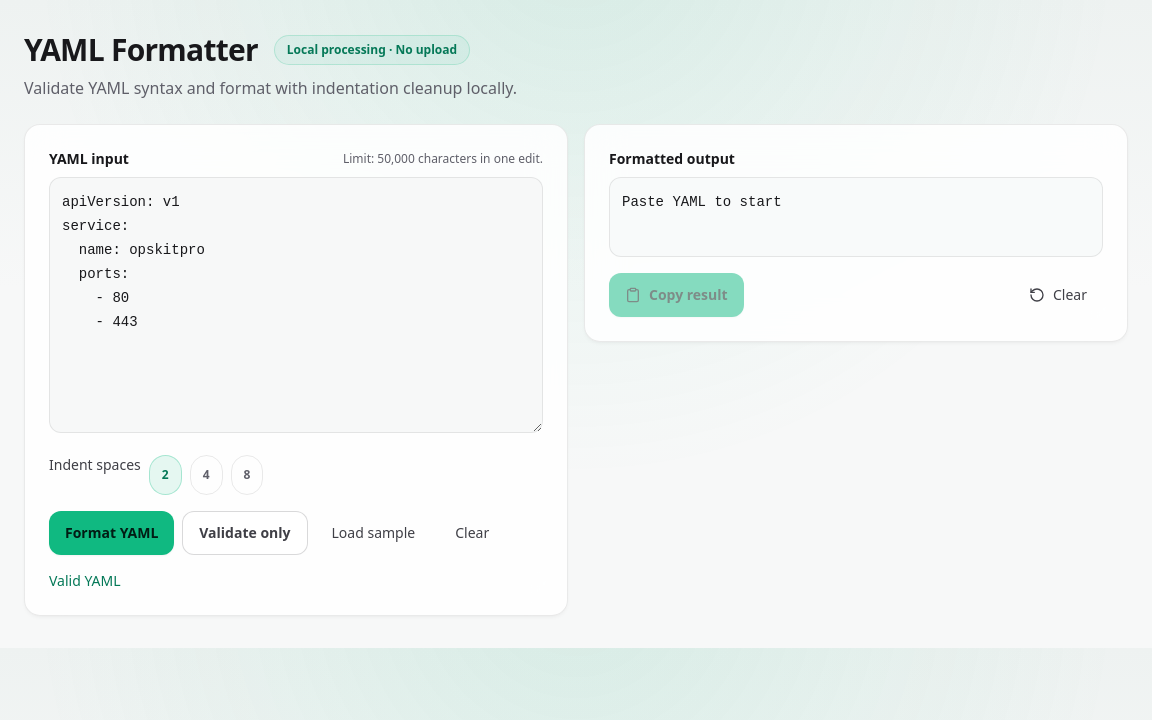
Test case: YamlClient › supports manual validation feedback
Step 1. Replace the text in the text box with placeholder "Paste your YAML here…" with "a: [1" → (296, 305), box [49, 177, 543, 433]
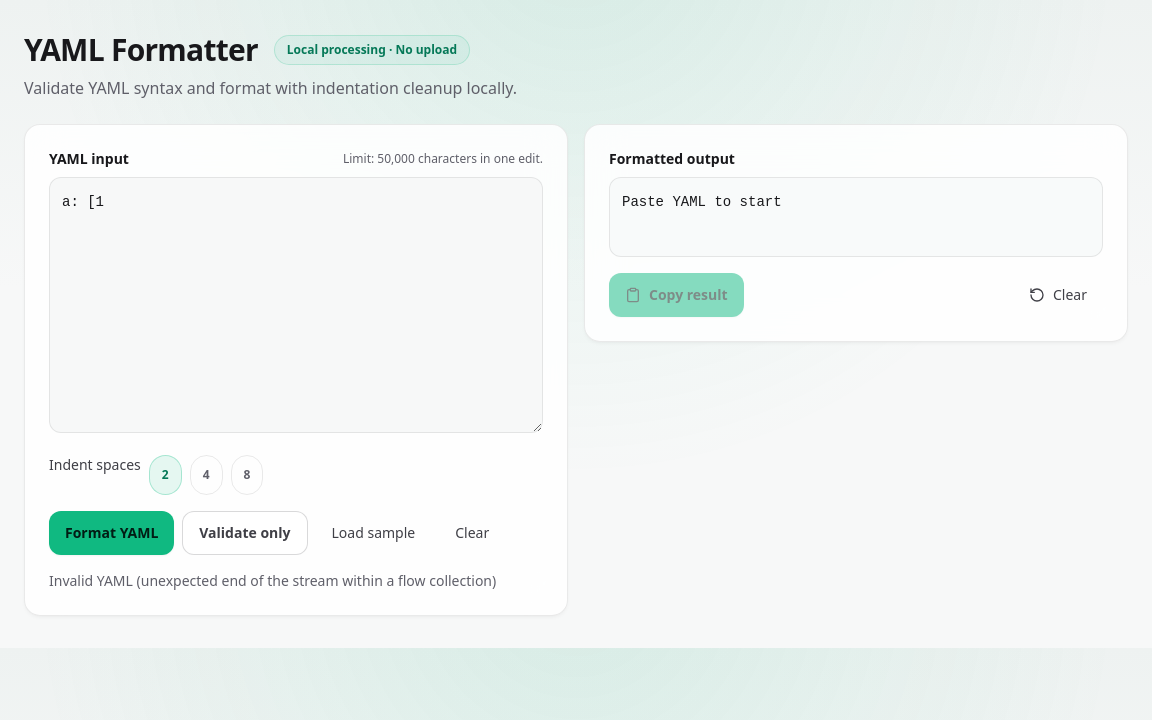
Step 2. Click the button "Validate only" → (245, 533), box [182, 511, 308, 555]
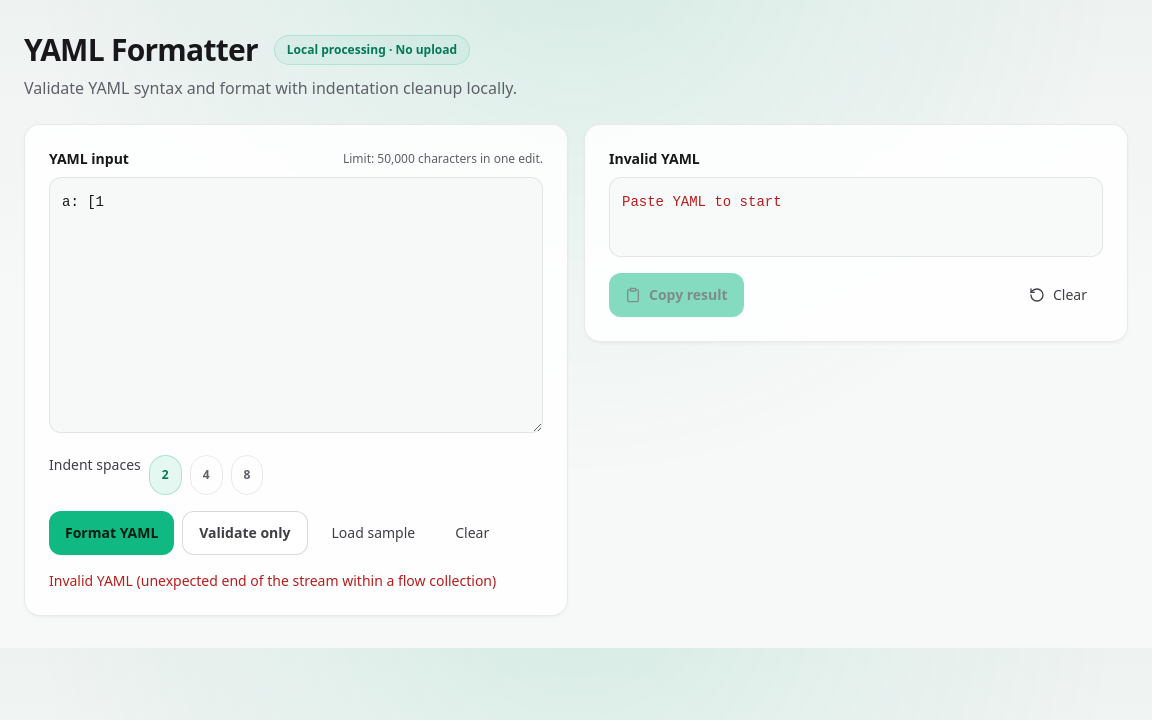
Now the heading "Invalid YAML" is shown, box [609, 149, 700, 168]
